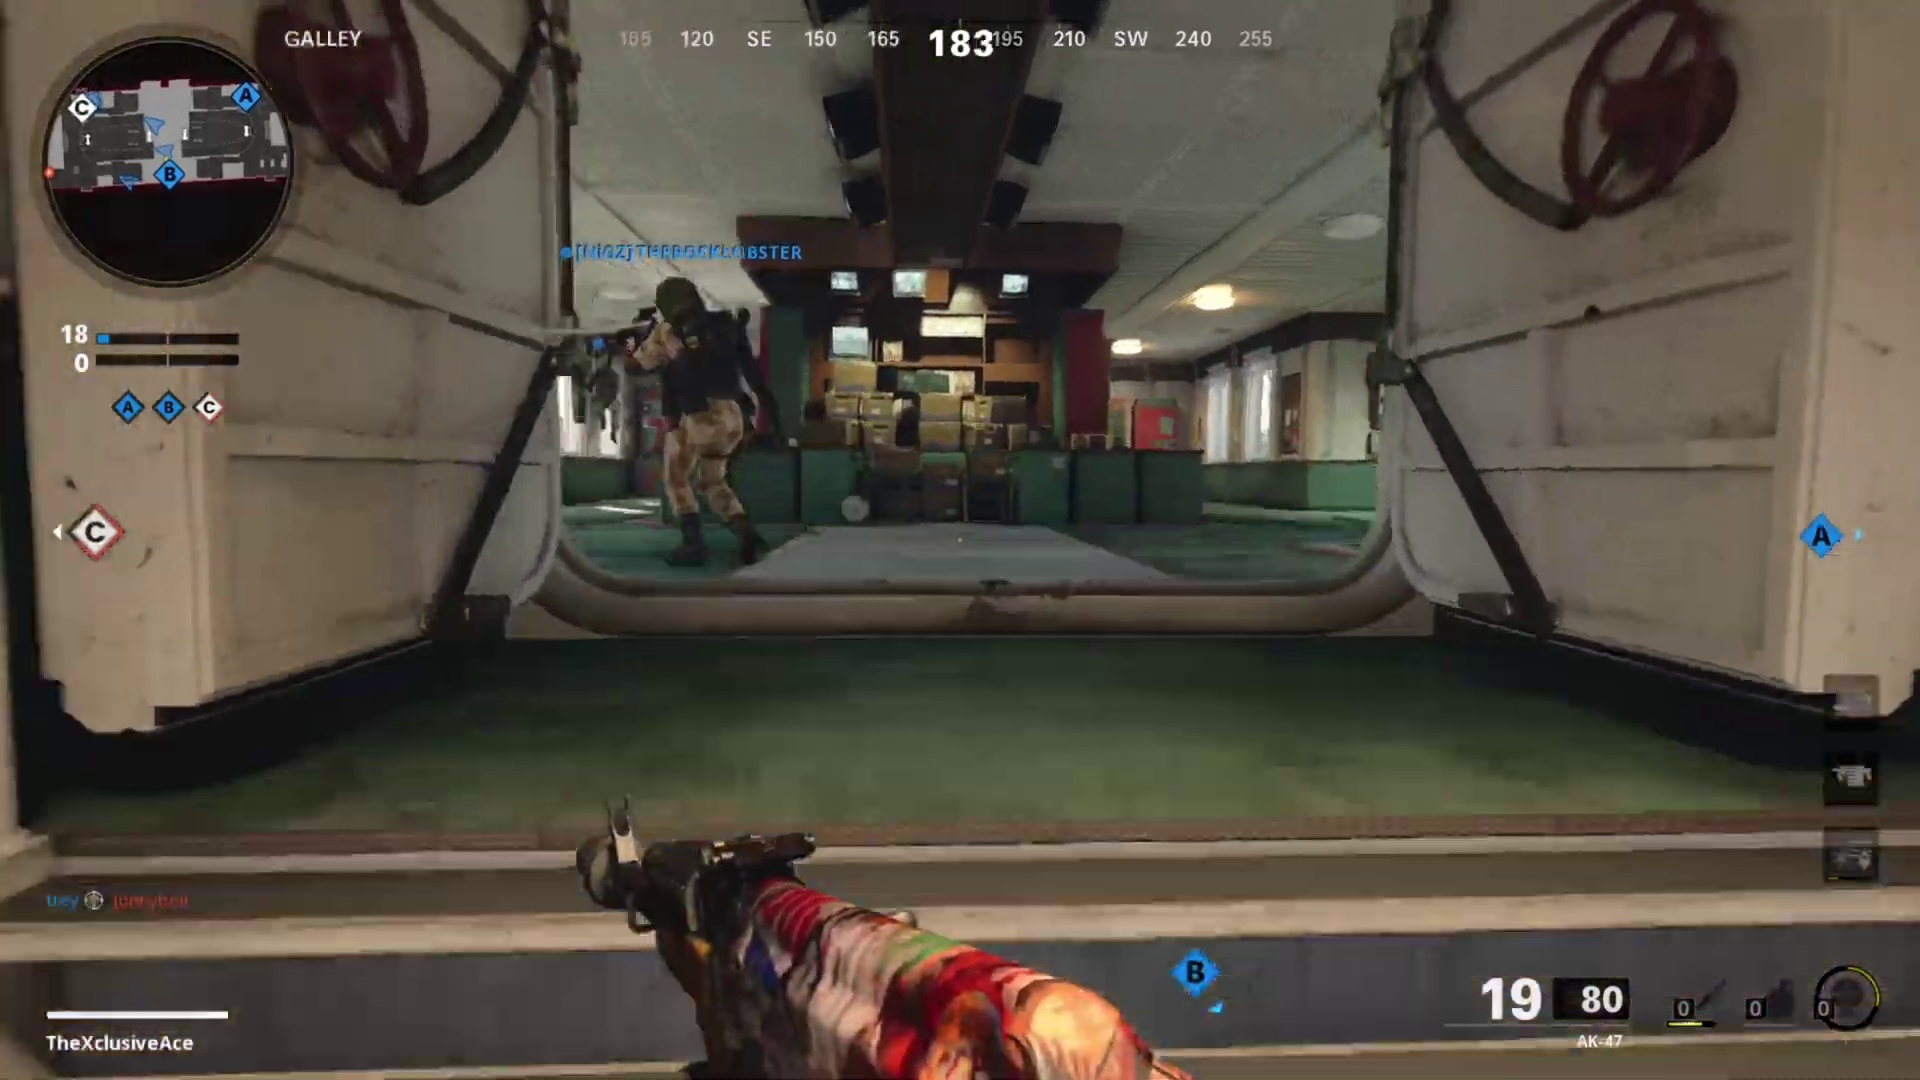head: (646, 271, 715, 349)
person: (622, 271, 773, 571)
